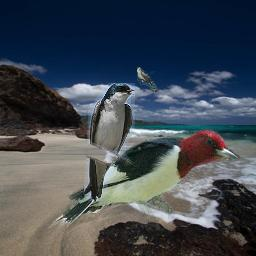Cuckoo: (137, 67, 157, 93)
Swallow: (84, 83, 135, 201)
Woodpecker: (48, 121, 246, 236)
